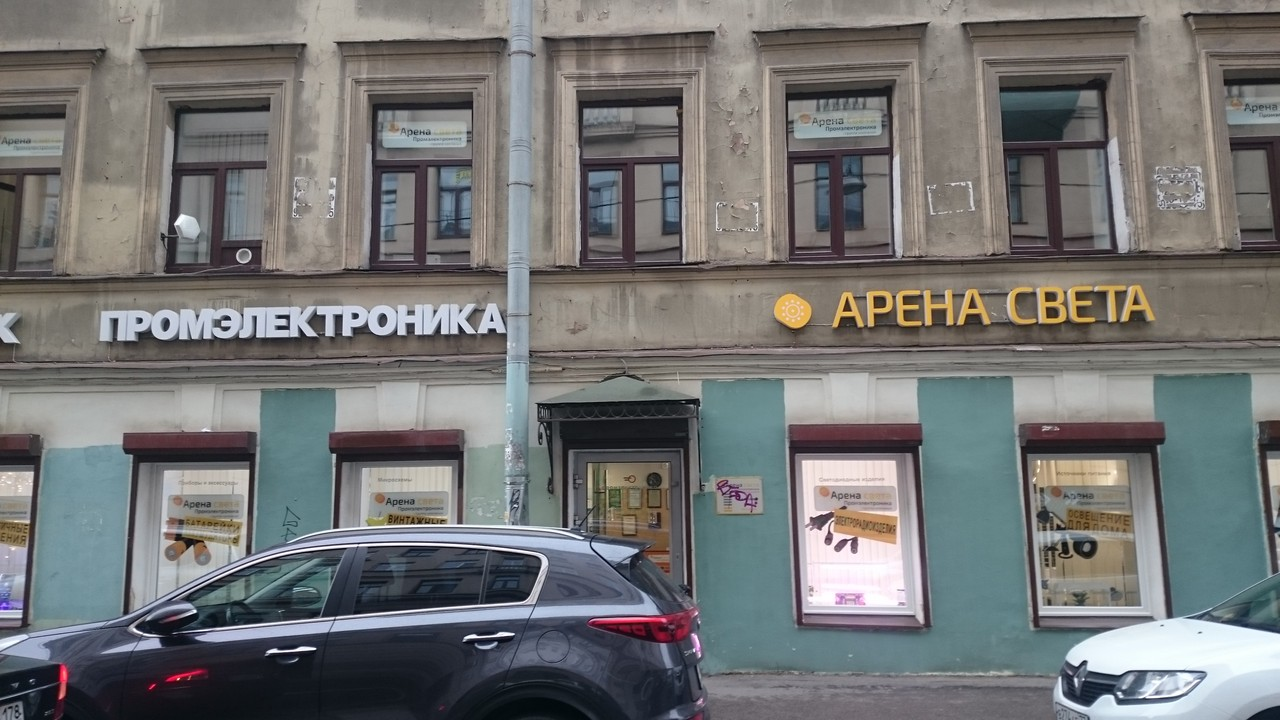signboard: (768, 278, 1166, 328), (102, 303, 498, 342)
window: (793, 450, 917, 622), (1025, 452, 1148, 614), (999, 84, 1106, 255), (788, 90, 894, 262), (370, 99, 477, 266), (164, 105, 270, 272), (581, 97, 681, 269), (148, 461, 245, 597), (568, 447, 683, 542)
